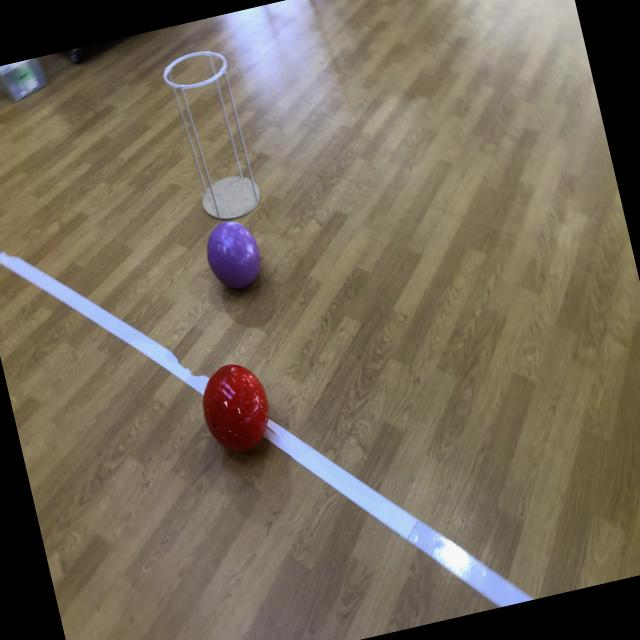purple_ball: (198, 215, 268, 296)
red_ball: (195, 359, 276, 460)
